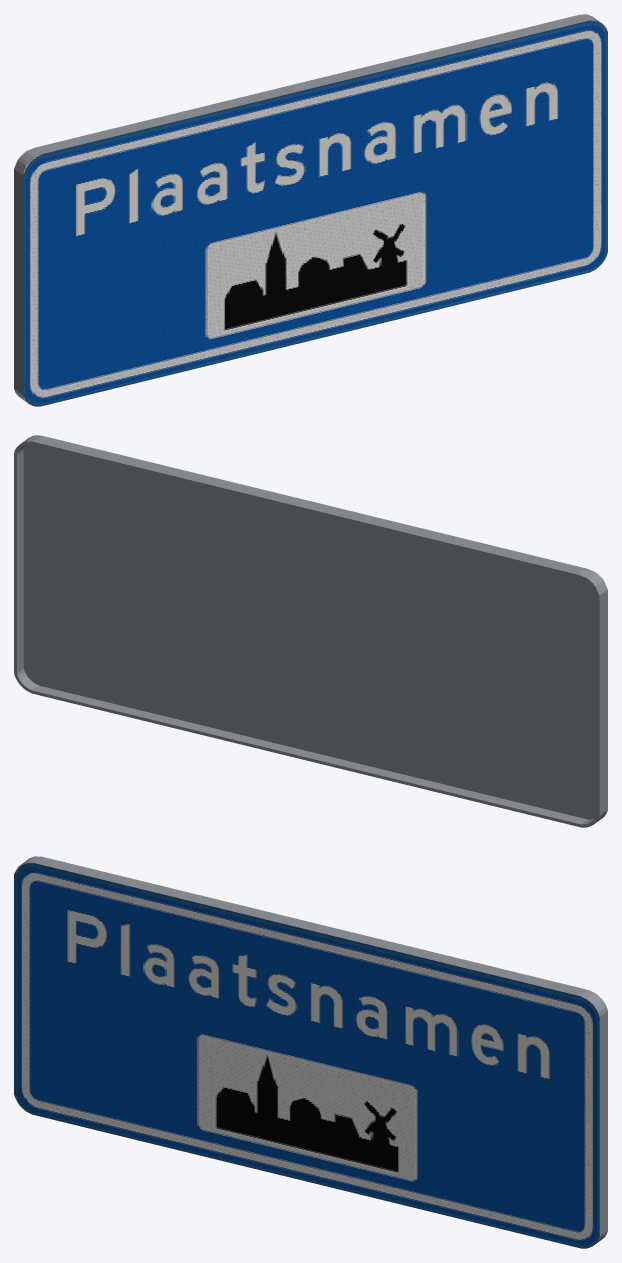
3 renders of one model, top to bottom at view 1: azimuth 30°, elevation 25°; view 2: azimuth 150°, elevation 25°; view 3: azimuth 330°, elevation 25°, orthographic.
Parts seen in each view (by area): view 1: cat_49d304b8b6a13350; view 2: cat_49d304b8b6a13350; view 3: cat_49d304b8b6a13350.
Boxes of the visible parts, x1,y1,x2,y2 form: cat_49d304b8b6a13350: [14, 14, 607, 406]; cat_49d304b8b6a13350: [14, 435, 607, 827]; cat_49d304b8b6a13350: [14, 856, 607, 1248].
Size of the model in its own units: 0.6 by 0.015 by 0.2468.
Materials: 2 (1 with a texture image).
